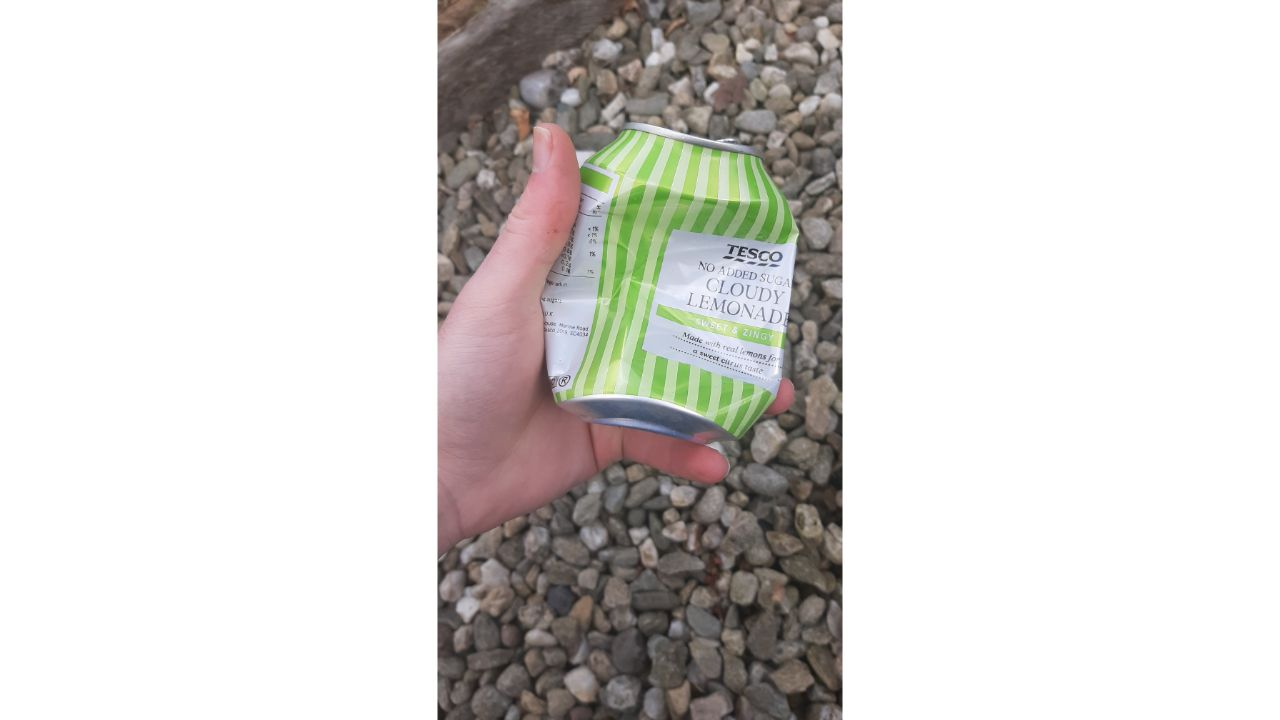Can: (530, 114, 810, 449)
